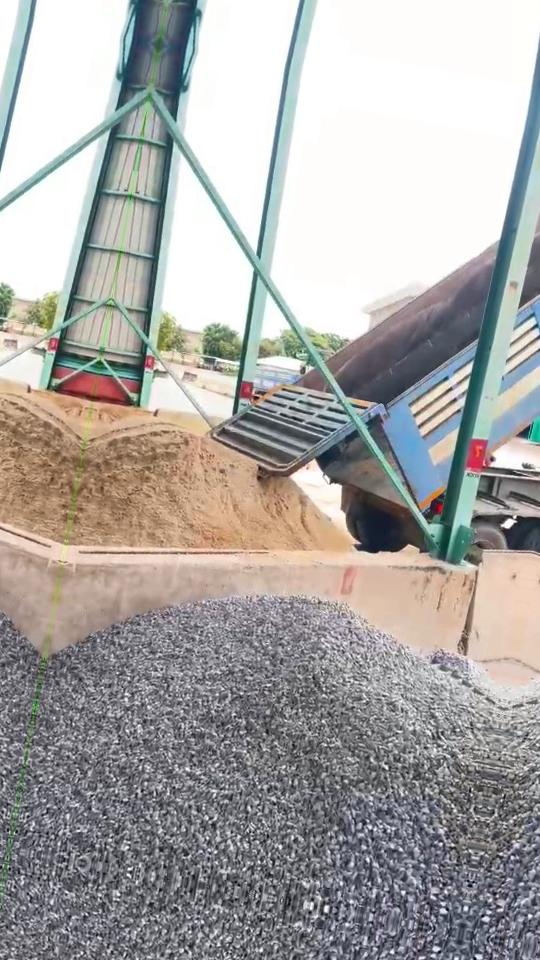gravel: (13, 596, 502, 932), (429, 649, 507, 706)
sand: (70, 408, 351, 551)
